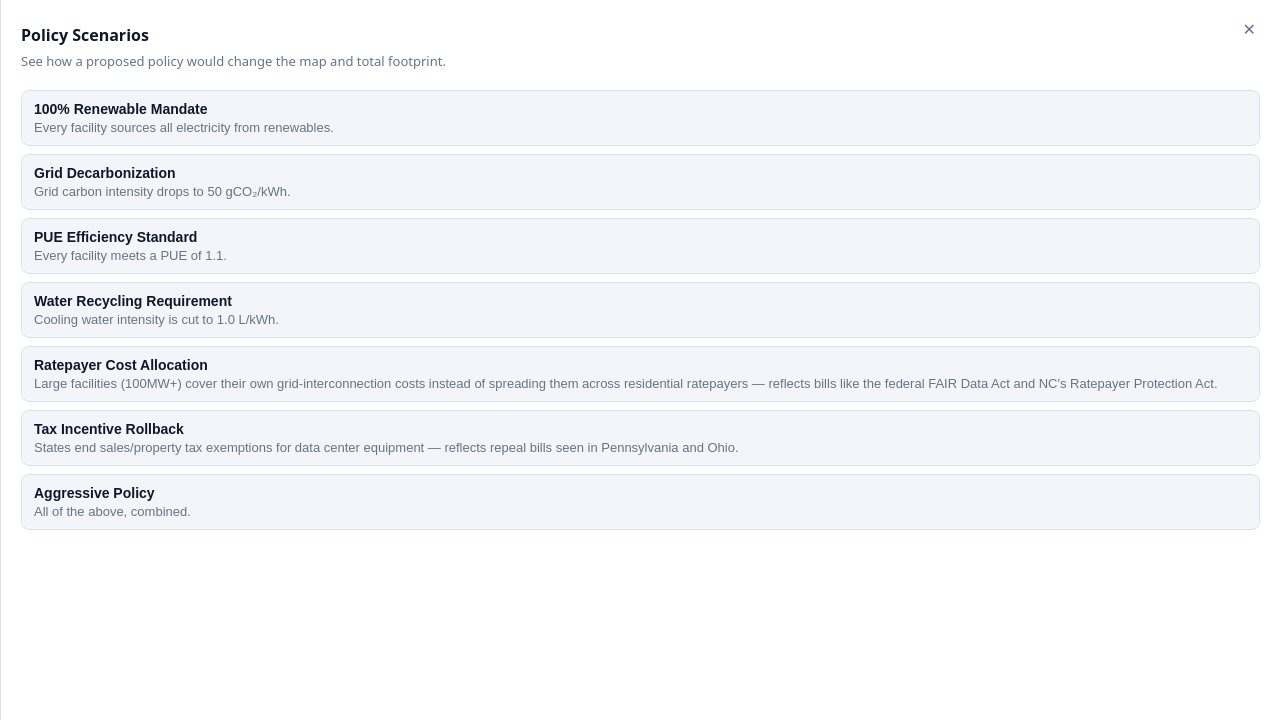
Scenario: ScenarioPanel › applies the tax incentive rollback preset with the correct payload
Click the text "Tax Incentive Rollback" at (109, 428), box [34,420,184,436]
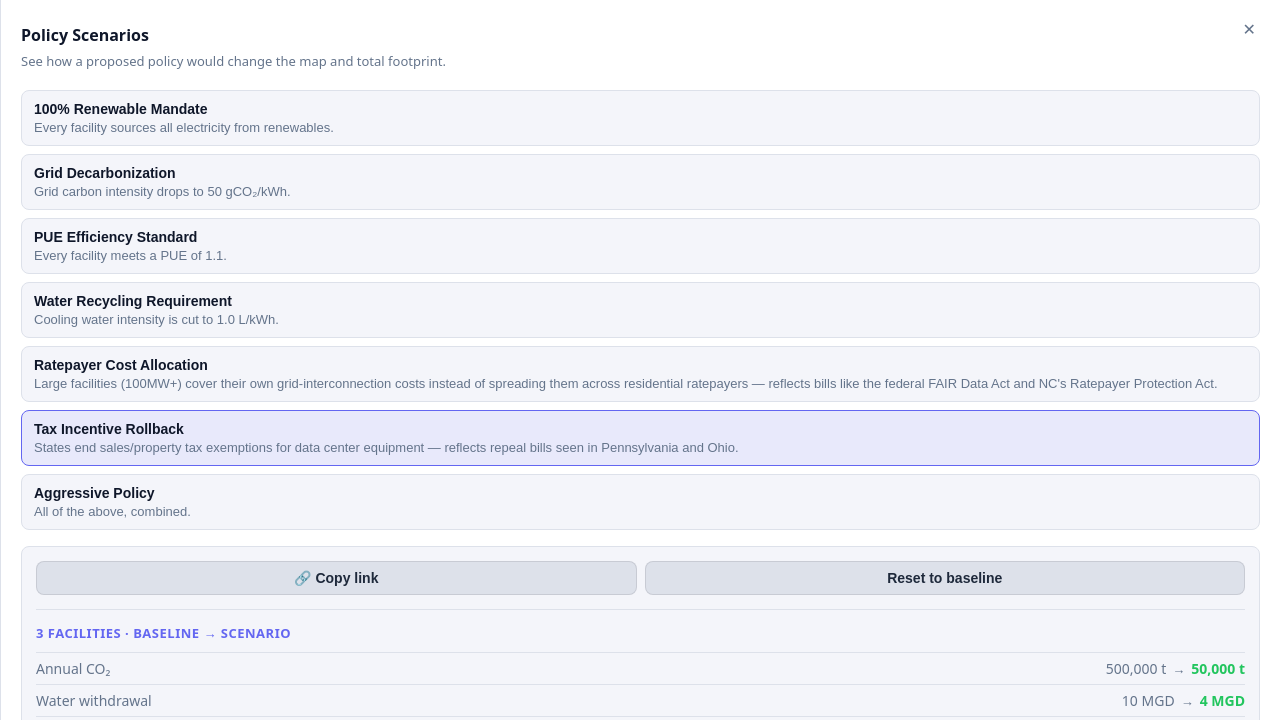
Expected: the text "3 facilities · baseline → scenario" is shown, [36,624,291,642]
